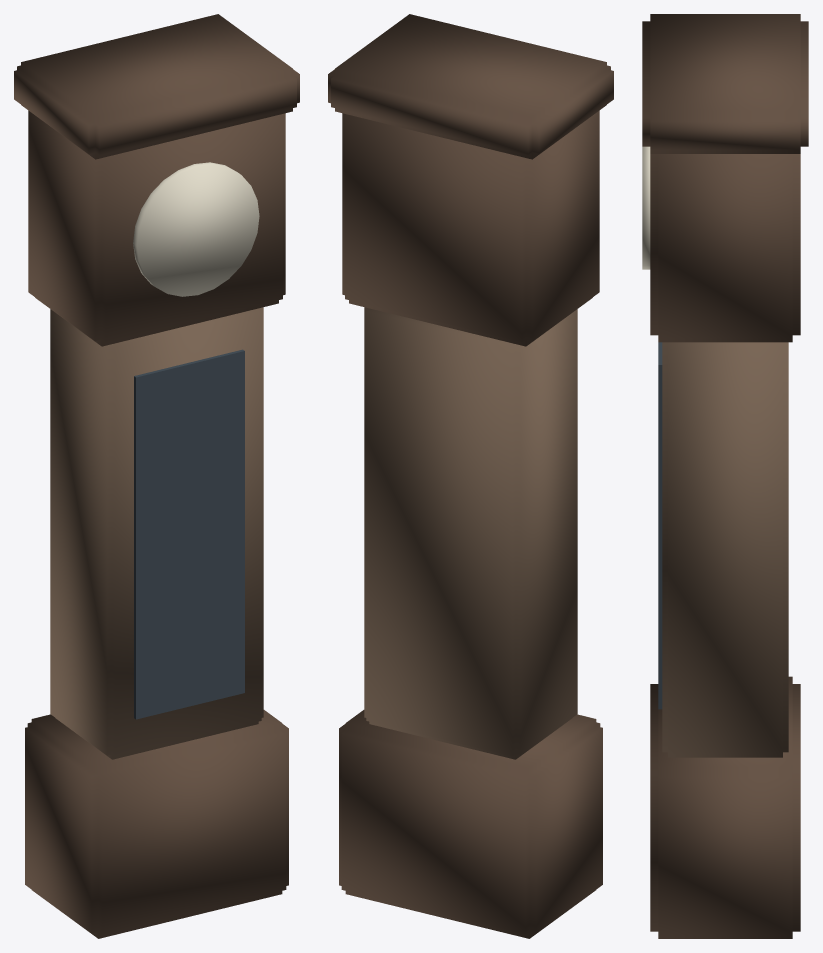
File: grandfather_clock.glb
The picture shows the model from 3 angles, left to right: view 1: azimuth 30°, elevation 25°; view 2: azimuth 150°, elevation 25°; view 3: azimuth 270°, elevation 25°; orthographic projection.
Parts seen in each view (by area): view 1: ClockWaist, ClockBase, CabinetGlass, ClockHood, ClockCrown, ClockDial; view 2: ClockWaist, ClockHood, ClockBase, ClockCrown; view 3: ClockWaist, ClockBase, ClockHood, ClockCrown, CabinetGlass, ClockDial.
Boxes of the visible parts, x1,y1,x2,y2 form: ClockWaist: (50, 307, 263, 759); ClockBase: (25, 710, 288, 938); CabinetGlass: (134, 349, 244, 719); ClockHood: (28, 110, 285, 346); ClockCrown: (14, 14, 299, 159); ClockDial: (133, 162, 259, 296); ClockWaist: (364, 307, 577, 759); ClockHood: (342, 110, 599, 346); ClockBase: (339, 710, 602, 938); ClockCrown: (328, 14, 613, 159); ClockWaist: (662, 342, 788, 757); ClockBase: (650, 676, 800, 938); ClockHood: (650, 154, 800, 342); ClockCrown: (642, 14, 808, 153); CabinetGlass: (658, 342, 662, 709); ClockDial: (642, 146, 650, 269).
Size of the model in its own units: 0.62 by 2.32 by 0.42.
